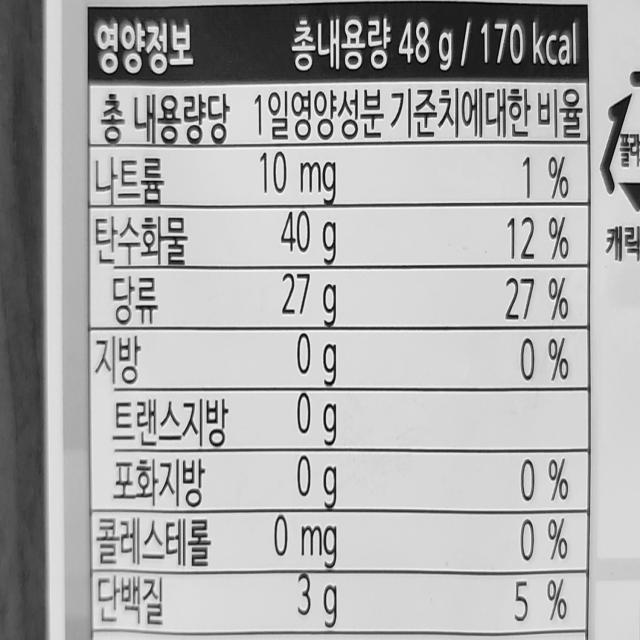Nutrition Label: (81, 0, 611, 640)
